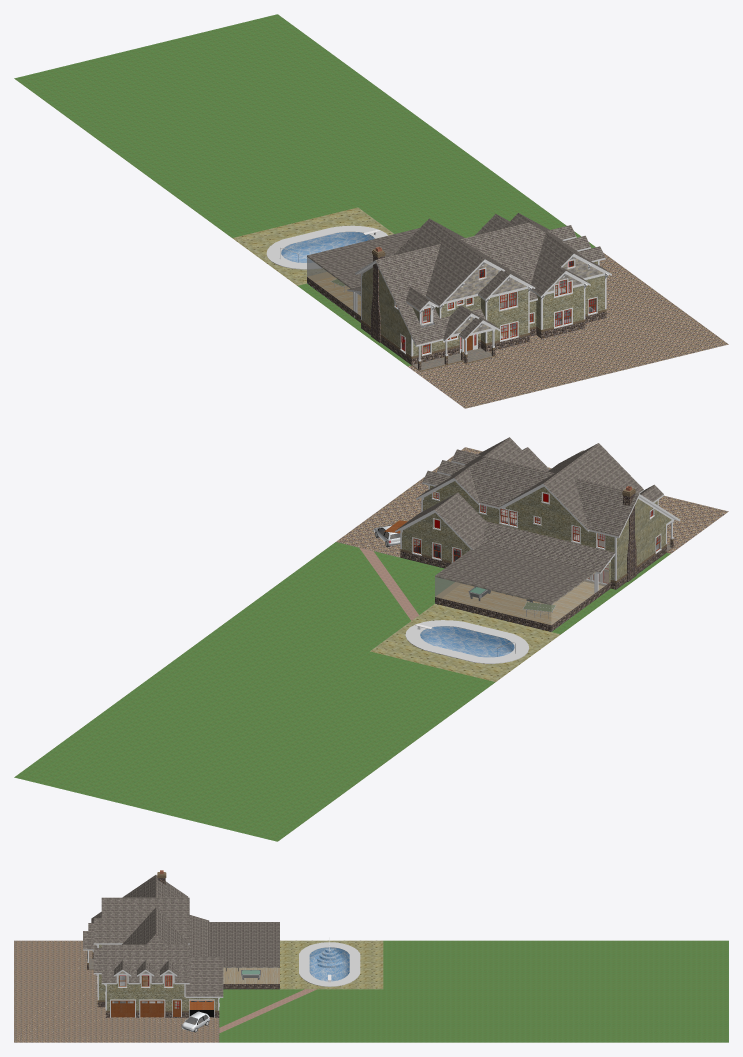
Rendered from house_fully_furnished.glb.
3 renders of one model, top to bottom at view 1: azimuth 30°, elevation 25°; view 2: azimuth 150°, elevation 25°; view 3: azimuth 270°, elevation 25°, orthographic. The views are drawn at different scales.
Visible parts, largest first — view 1: Material3 (×11), Material2 (×5); view 2: Material3 (×9), Material2 (×4); view 3: Material3 (×10), Material2 (×4).
Part boxes in pixels (x1=…): Material3 (×11): x1=14, y1=14, x2=728, y2=408; Material2 (×5): x1=307, y1=236, x2=611, y2=369; Material3 (×9): x1=14, y1=437, x2=728, y2=841; Material2 (×4): x1=395, y1=461, x2=680, y2=631; Material3 (×10): x1=14, y1=875, x2=728, y2=1042; Material2 (×4): x1=83, y1=878, x2=279, y2=1017.
Size of the model in its own units: 1083 by 439 by 3211.
Materials: 90 (49 with a texture image).
